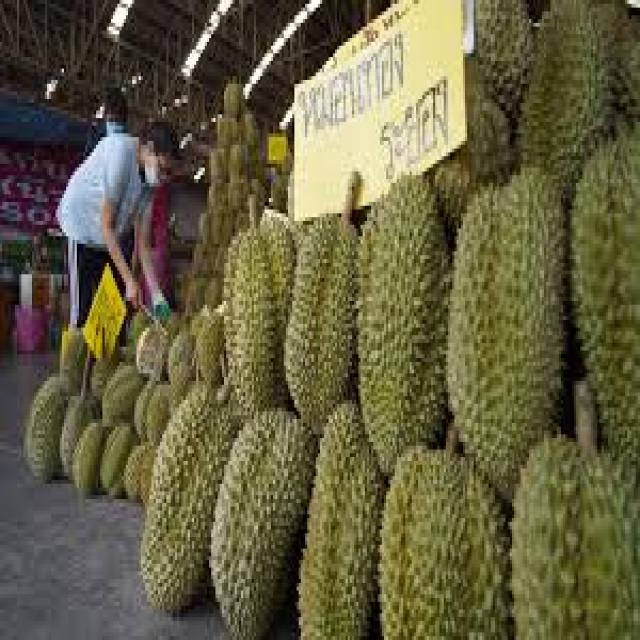immature: (443, 165, 571, 514), (355, 169, 453, 470), (511, 426, 640, 640), (379, 437, 505, 640), (139, 378, 242, 623), (213, 408, 314, 640), (300, 399, 384, 640), (285, 210, 366, 432), (220, 214, 302, 414)
